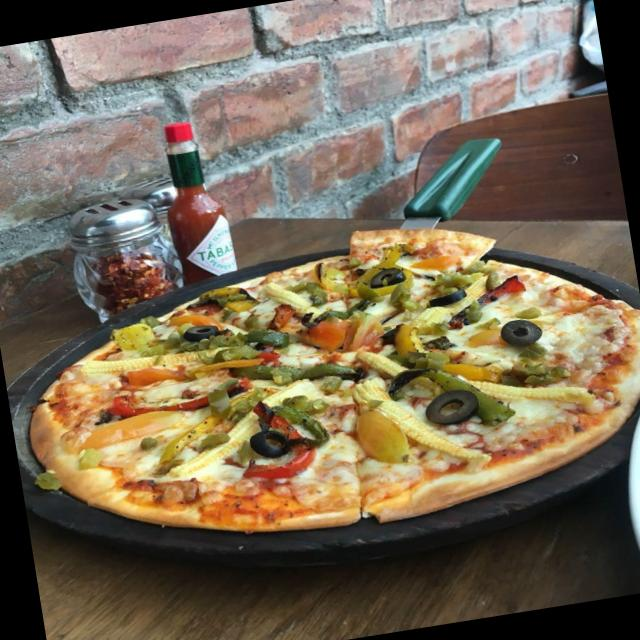black_olives: (423, 385, 483, 432), (499, 312, 544, 348), (248, 426, 292, 462), (384, 364, 419, 396), (180, 318, 221, 344), (369, 264, 406, 292), (428, 288, 462, 308)
peppers: (146, 388, 272, 472), (391, 311, 501, 396), (427, 356, 516, 434), (243, 345, 351, 395), (202, 320, 296, 366), (272, 394, 331, 451), (351, 272, 417, 317), (296, 298, 364, 328), (198, 383, 238, 420), (440, 260, 486, 290), (294, 274, 333, 308), (456, 302, 478, 321)
pizza: (27, 228, 640, 537)
